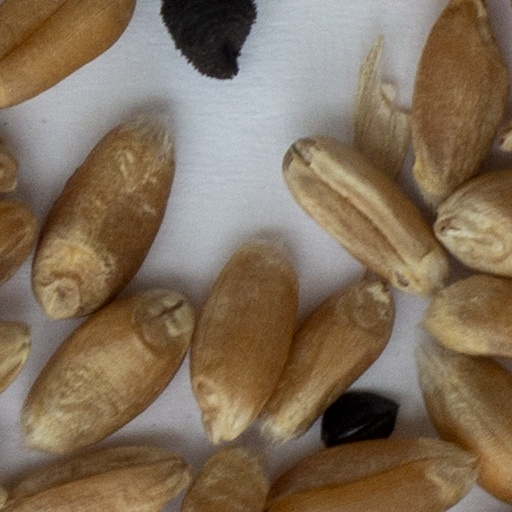Agrostemma-poly: (160, 0, 255, 79)
Fallopia-Convolvulus-poly: (322, 394, 396, 445)
